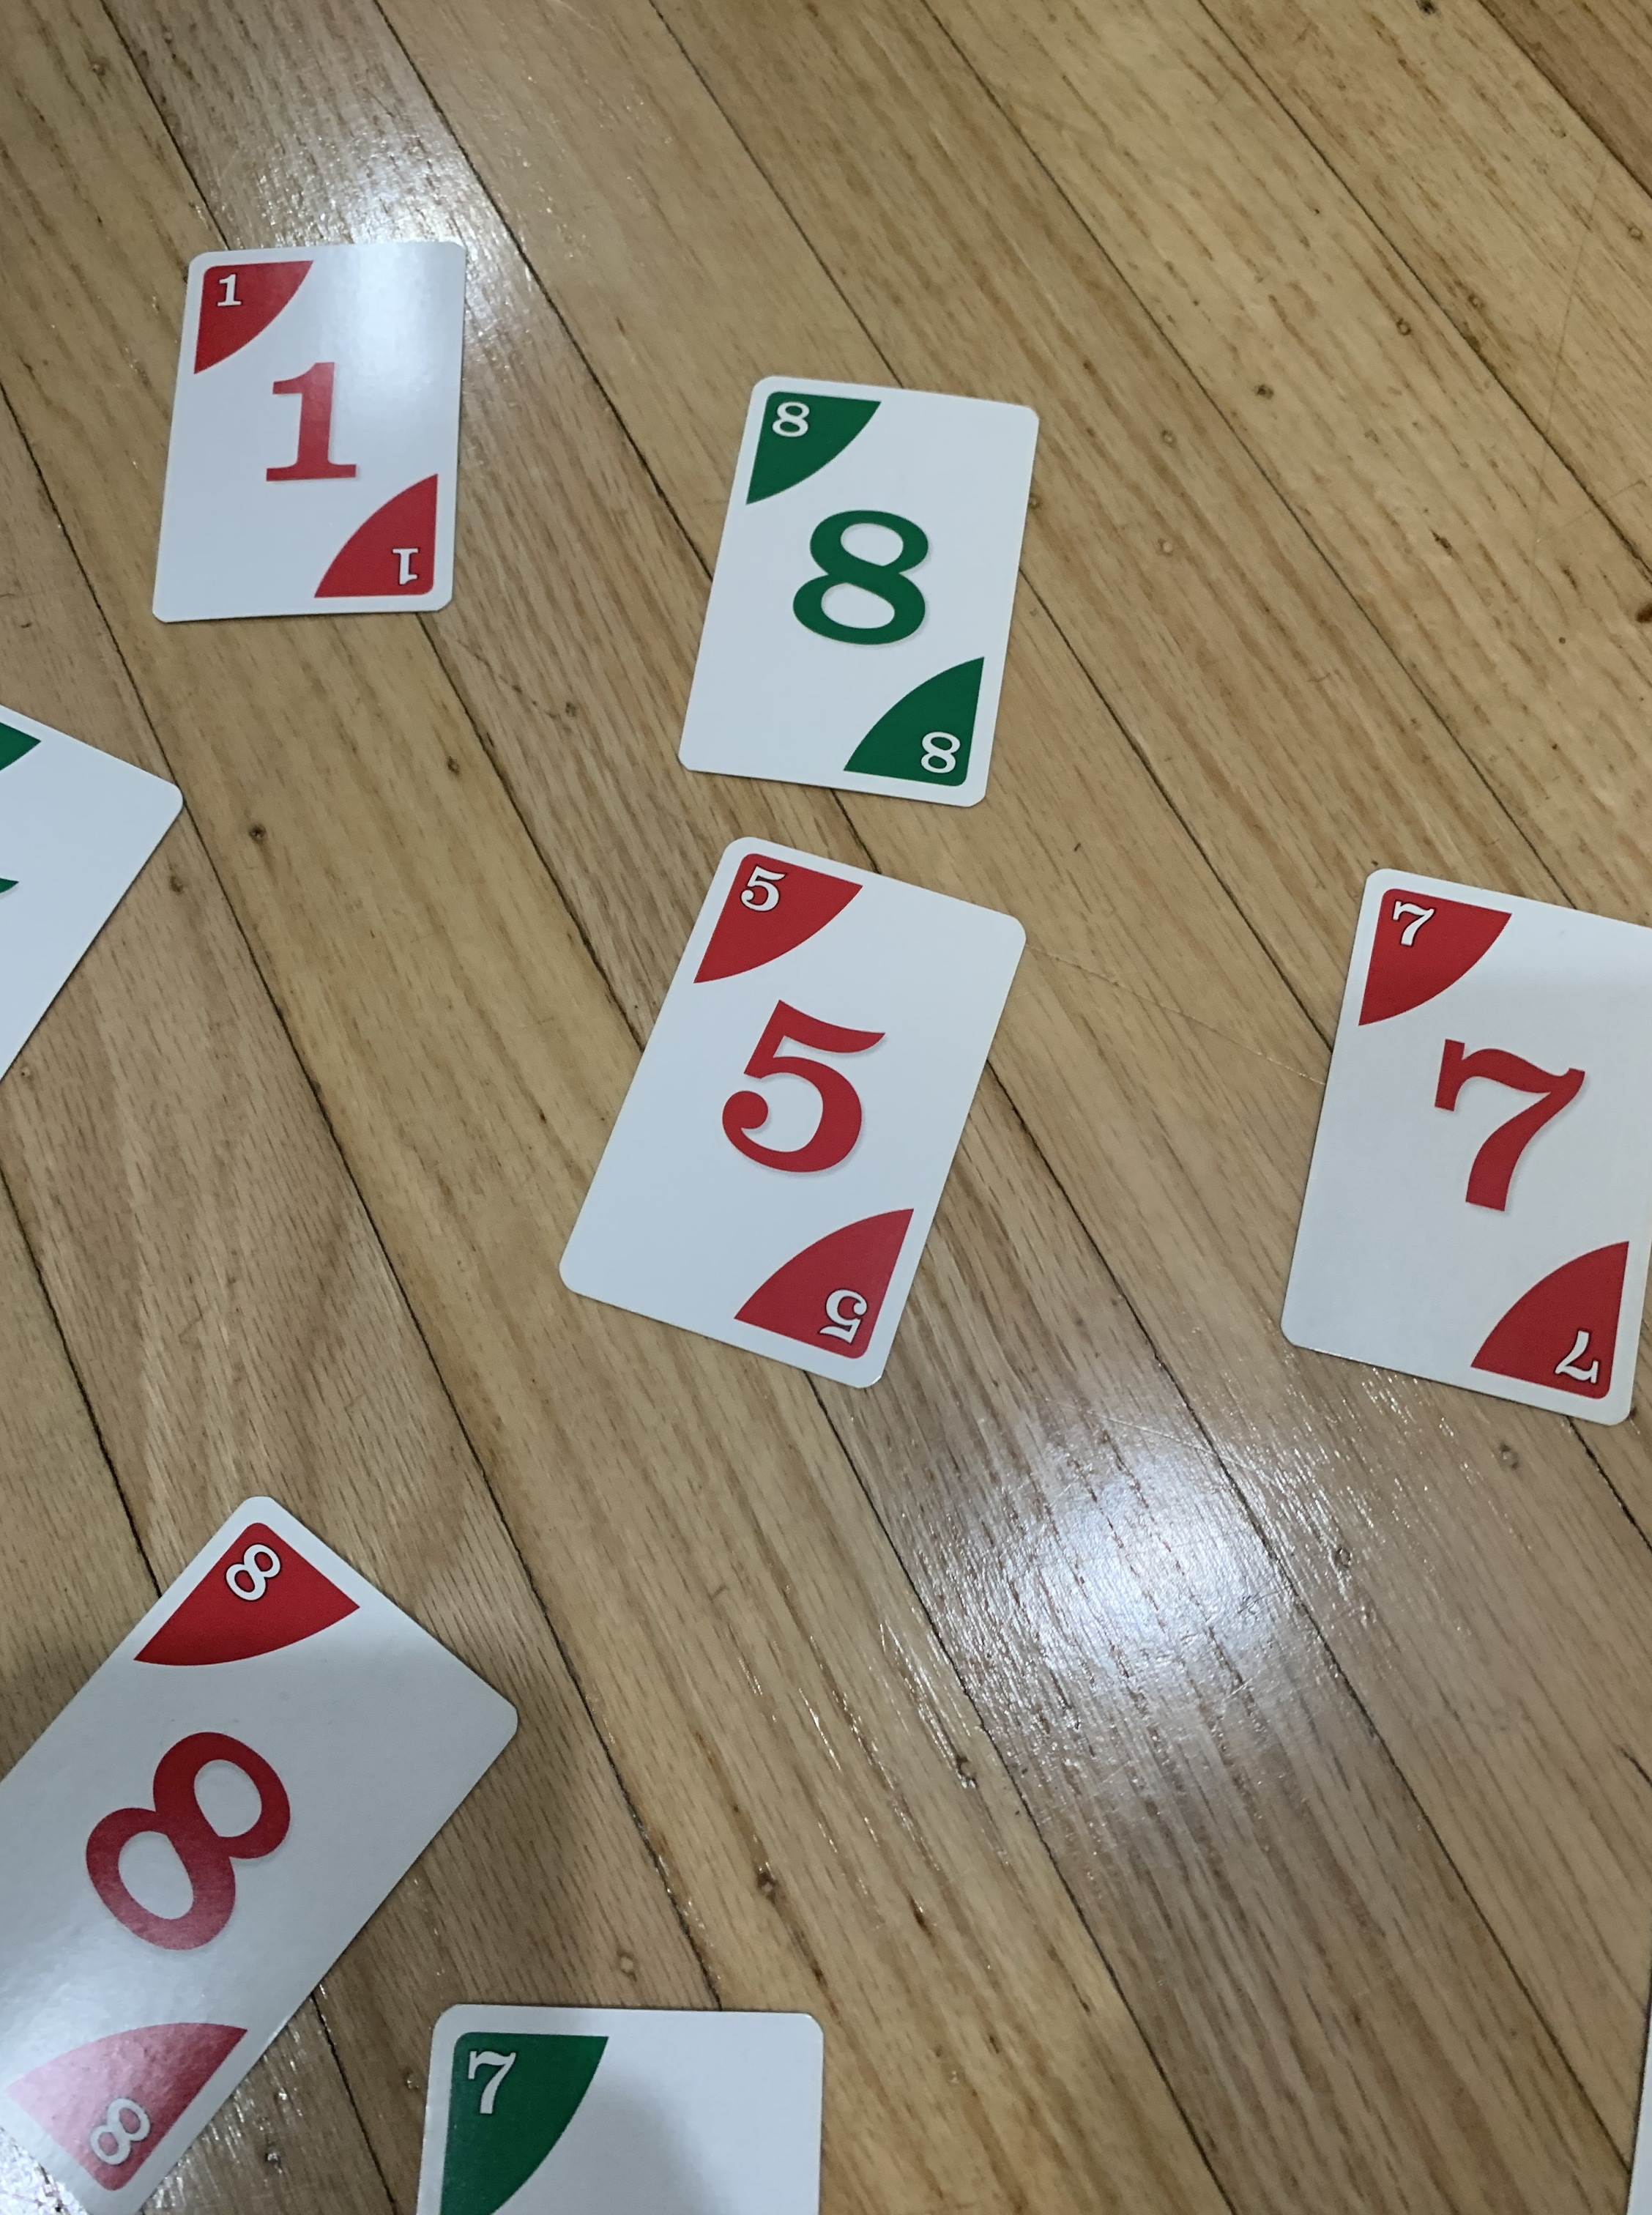eight: (10, 1489, 540, 2215), (673, 368, 1046, 818)
five: (547, 830, 1036, 1397)
one: (142, 233, 475, 628)
seven: (1260, 864, 1647, 1443)
